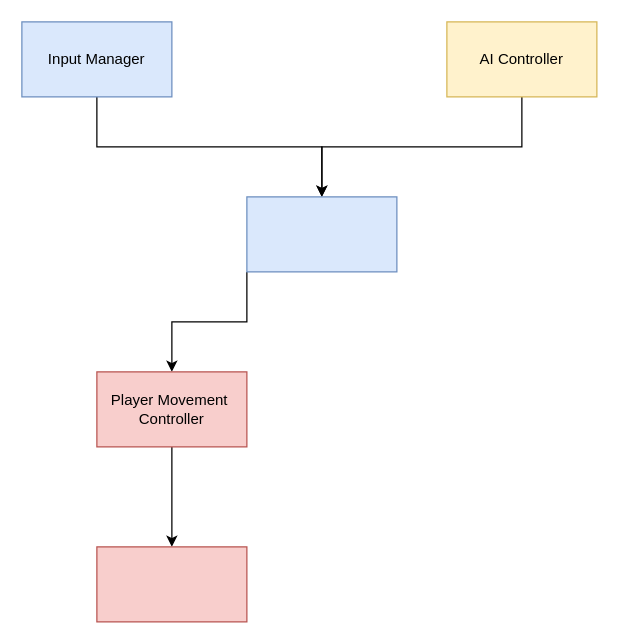
This 619x644 diagram has some shape labels left out. Here are the shapes that lost their labels. From the top down, the box of each, then its label:
(246, 196, 397, 272): Input Data
(96, 546, 247, 622): Movement
